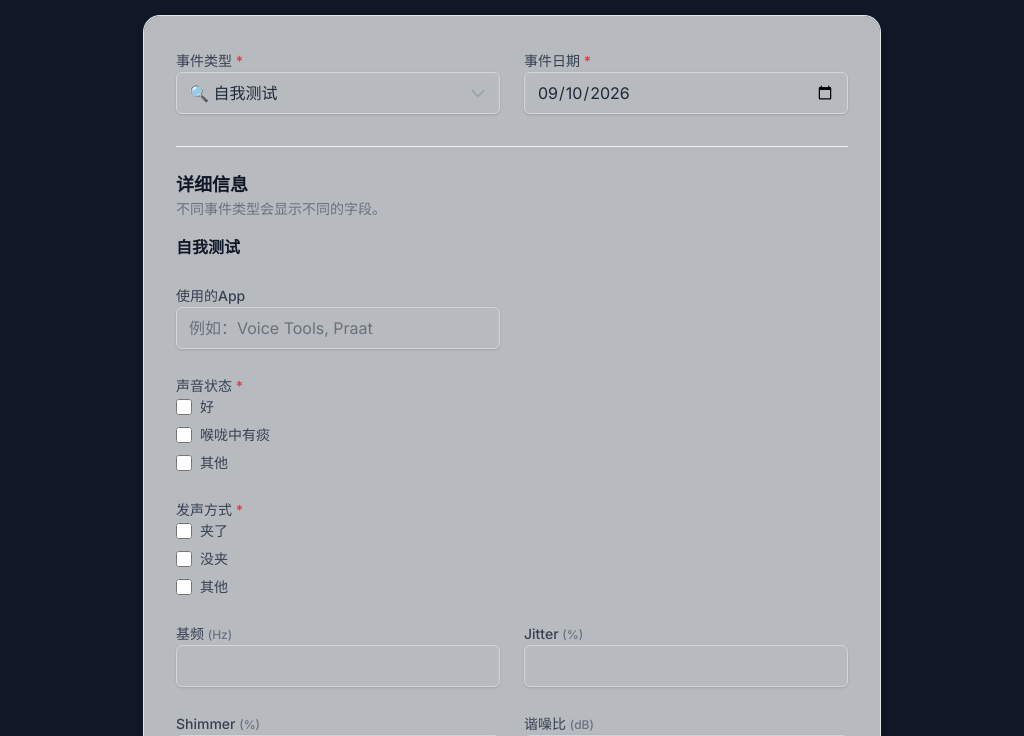
Scenario: 提交手动日期后重置为当前当地日期
In the date field labelled "事件日期 *": (686, 93) 524,72 -> 848,114, type "2026-08-31"
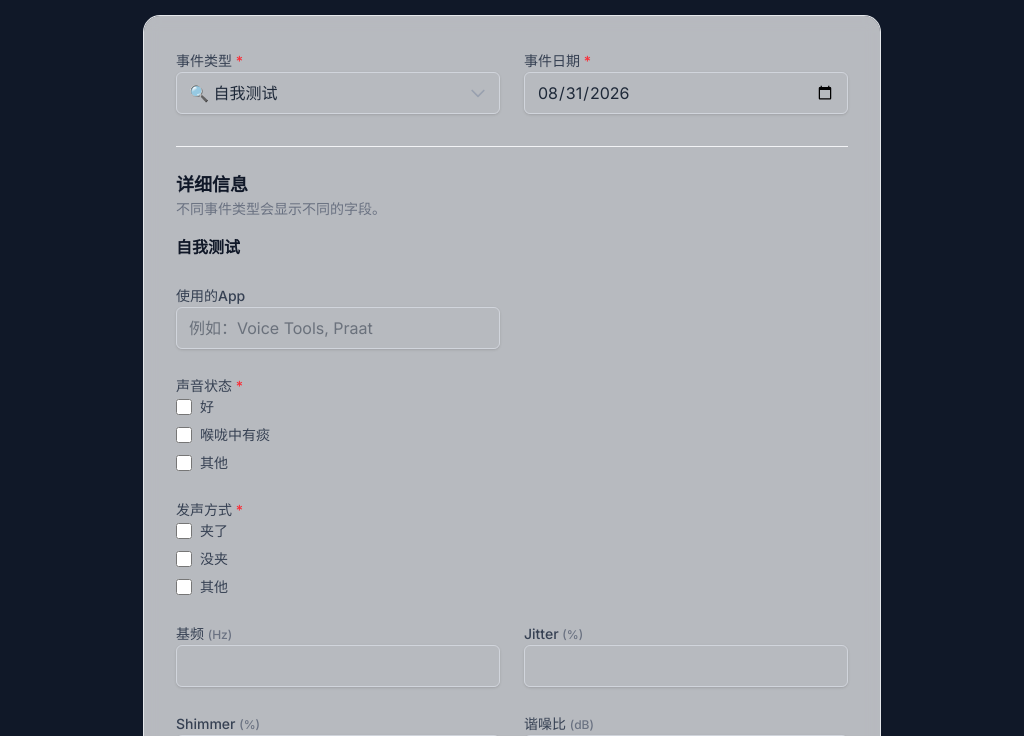
Select "💬 感受记录" in the dropdown labelled "事件类型 *": (338, 93) 176,72 -> 500,114
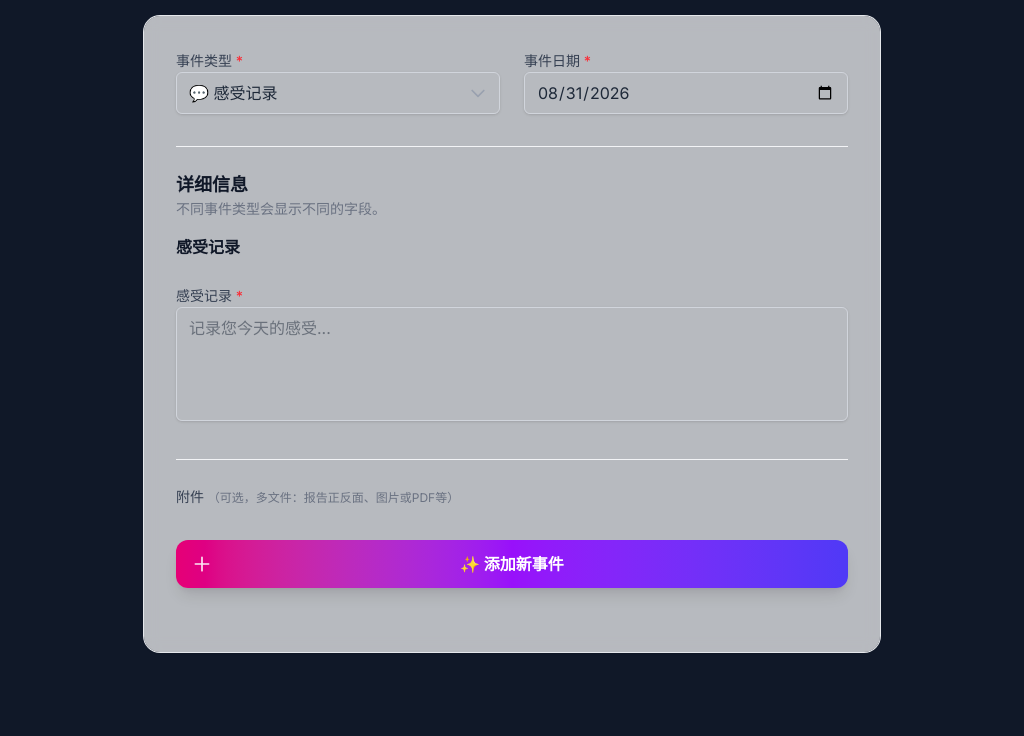
In the text box with placeholder "记录您今天的感受...": (512, 364) 176,307 -> 848,421, type "日期回归"
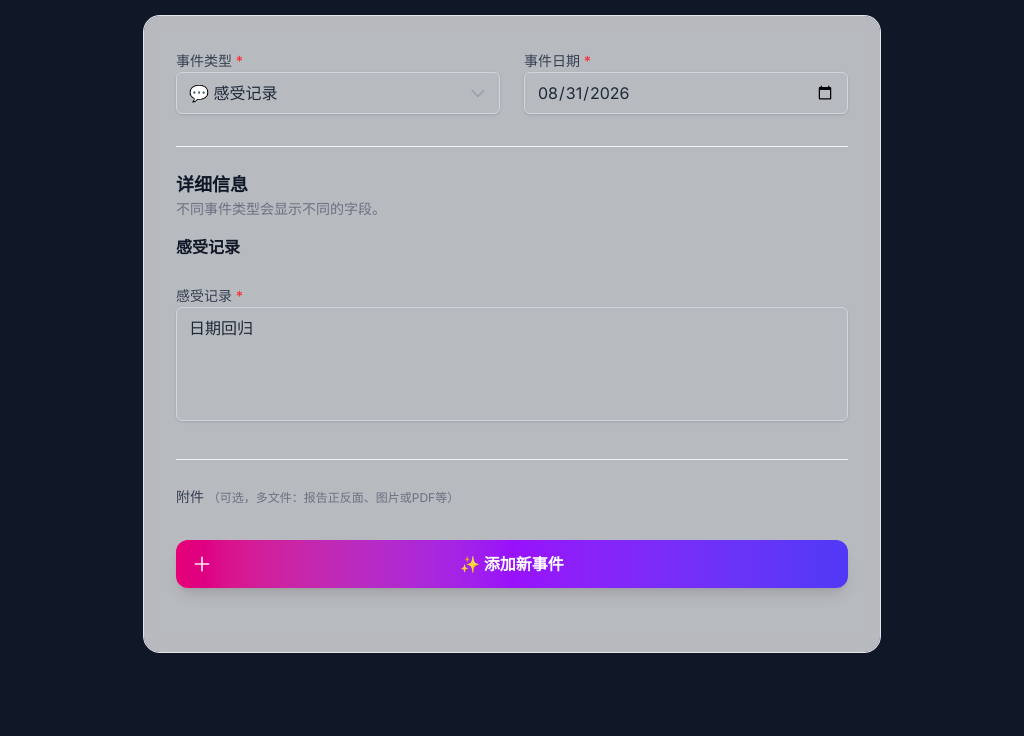
Submit the form labelled "事件类型"
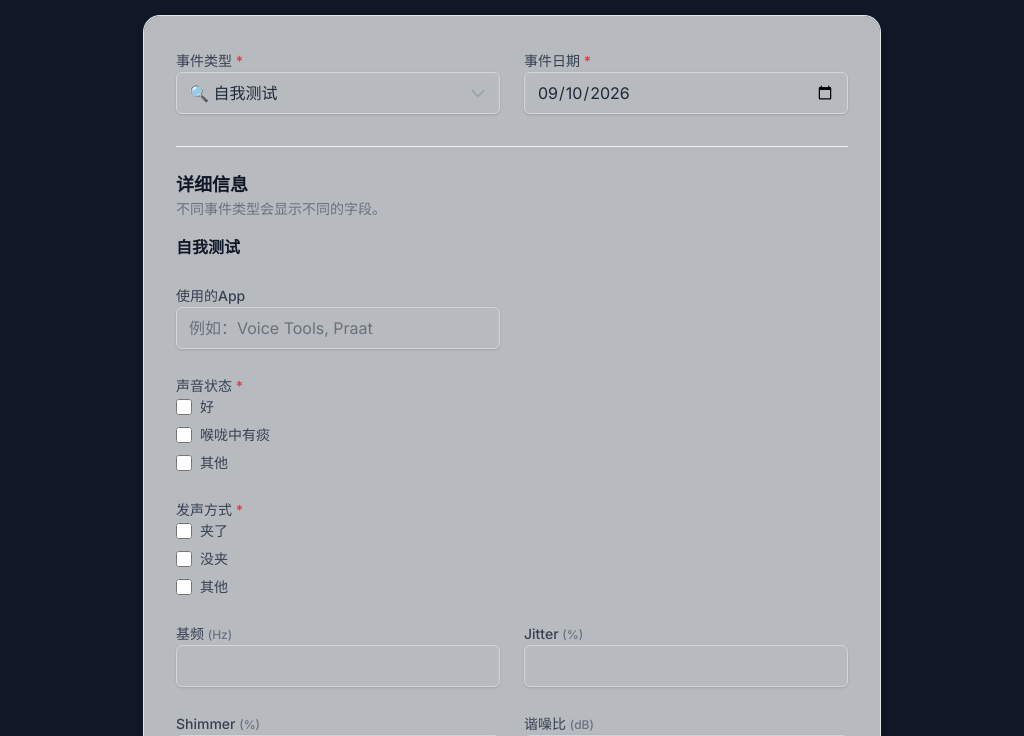
Expected: the date field labelled "事件日期 *" holds "2026-09-10", 524,72 -> 848,114
